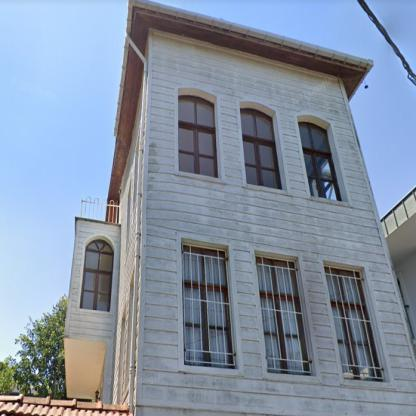window: (326, 267, 382, 379), (258, 257, 308, 370), (184, 245, 230, 364), (240, 109, 282, 189), (299, 122, 341, 200), (179, 95, 217, 177), (80, 238, 112, 310)
